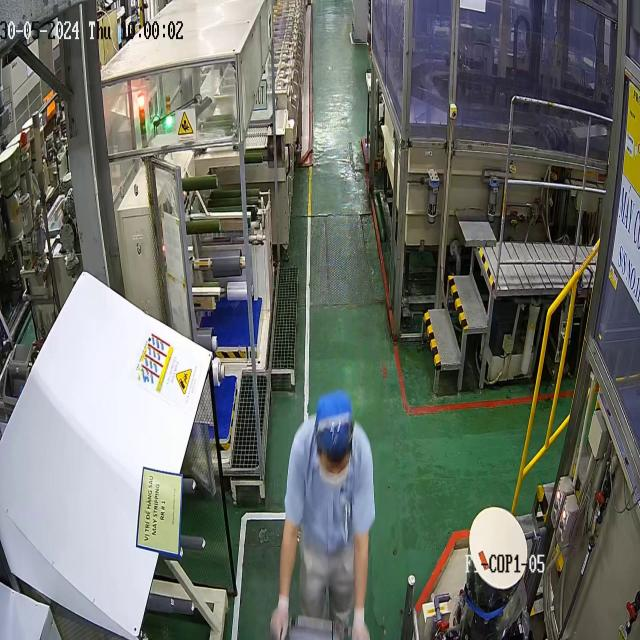Person: (269, 390, 376, 640)
